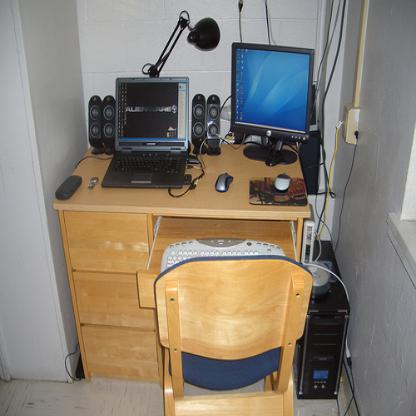chair: (152, 252, 314, 415)
tvmonitor: (227, 38, 316, 168)
